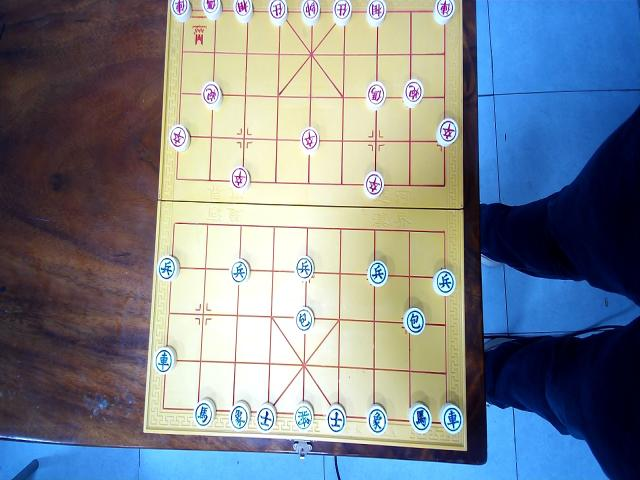piece: (440, 403, 462, 434), (409, 402, 431, 433), (366, 404, 387, 435), (154, 346, 176, 375), (436, 118, 458, 147), (229, 401, 250, 431), (194, 398, 215, 428), (201, 81, 222, 110), (256, 402, 276, 432), (168, 124, 190, 151), (403, 308, 425, 335), (294, 401, 313, 432), (366, 81, 386, 110), (403, 79, 423, 108), (433, 269, 455, 295), (327, 403, 346, 433), (367, 260, 388, 287), (157, 256, 179, 281), (367, 0, 387, 27), (230, 166, 250, 193), (364, 171, 383, 199), (433, 0, 454, 25), (230, 258, 250, 284), (301, 127, 319, 155), (295, 307, 314, 333), (268, 0, 287, 26), (301, 0, 320, 26), (333, 0, 352, 26), (170, 0, 191, 23), (296, 256, 314, 281), (234, 0, 253, 23), (202, 0, 222, 21)
